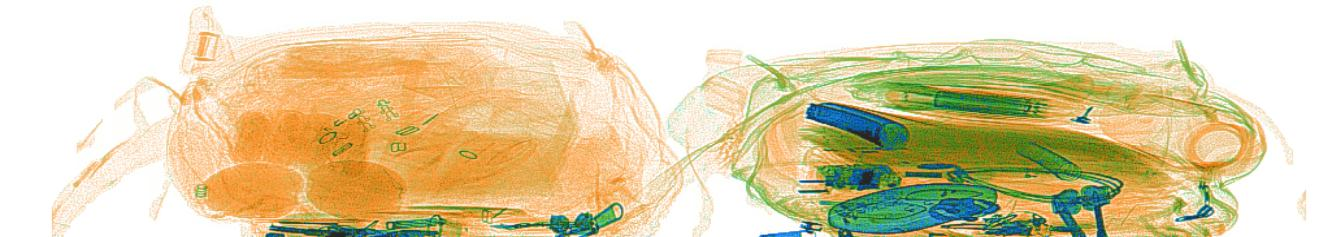battery: (931, 89, 1034, 117)
